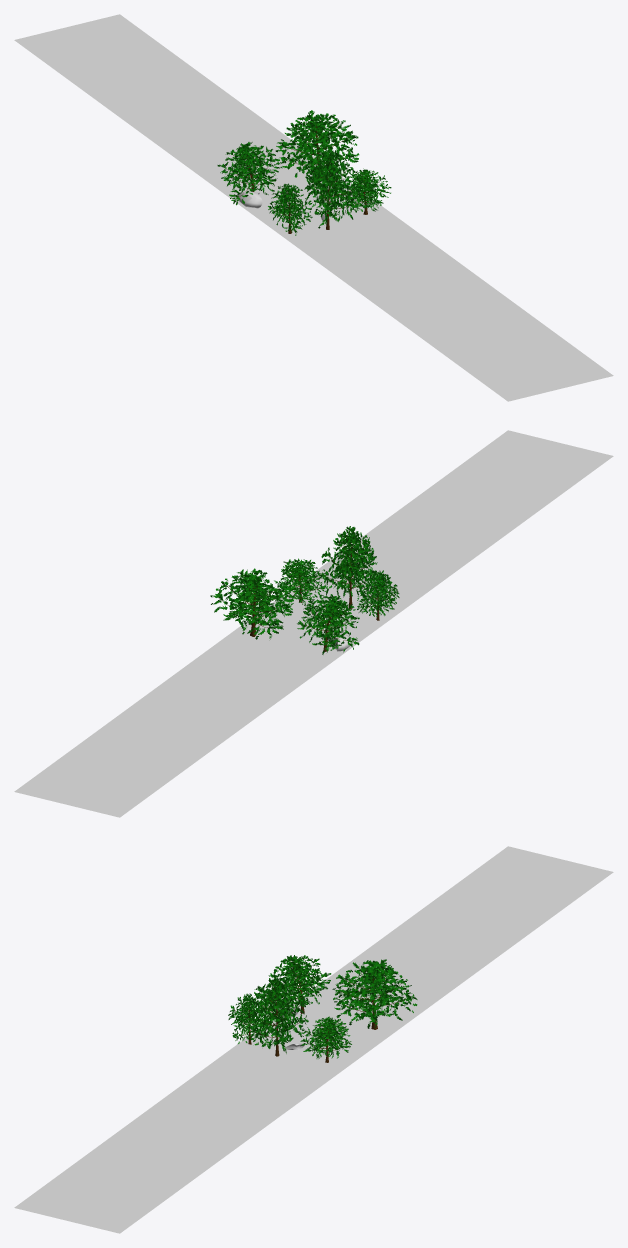
Rendered from Basic 4.fbx.
3 views of the same model, one above another, from view 1: azimuth 30°, elevation 25°; view 2: azimuth 150°, elevation 25°; view 3: azimuth 330°, elevation 25° (orthographic).
Parts seen in each view (by area): view 1: Plane001, Foliage004, Foliage007, Foliage006, Foliage001, Foliage003; view 2: Plane001, Foliage004, Foliage007, Foliage006, Foliage001, Foliage003; view 3: Plane001, Foliage004, Foliage007, Foliage006, Foliage001, Foliage003.
Part boxes in pixels (box(x1,y1,x2,y2)): Plane001: box(14, 14, 613, 401); Foliage004: box(275, 110, 359, 183); Foliage007: box(304, 150, 360, 229); Foliage006: box(217, 142, 279, 205); Foliage001: box(339, 168, 391, 214); Foliage003: box(268, 183, 312, 235); Plane001: box(14, 430, 613, 817); Foliage004: box(210, 568, 295, 639); Foliage007: box(319, 526, 377, 608); Foliage006: box(297, 594, 359, 654); Foliage001: box(276, 558, 327, 606); Foliage003: box(357, 570, 399, 620); Plane001: box(14, 846, 613, 1233); Foliage004: box(332, 959, 417, 1029); Foliage007: box(251, 974, 308, 1056); Foliage006: box(268, 955, 331, 1013); Foliage001: box(300, 1016, 351, 1062); Foliage003: box(228, 993, 270, 1044).
Bounding box in the file's own units: 1269 × 722 × 8000.
